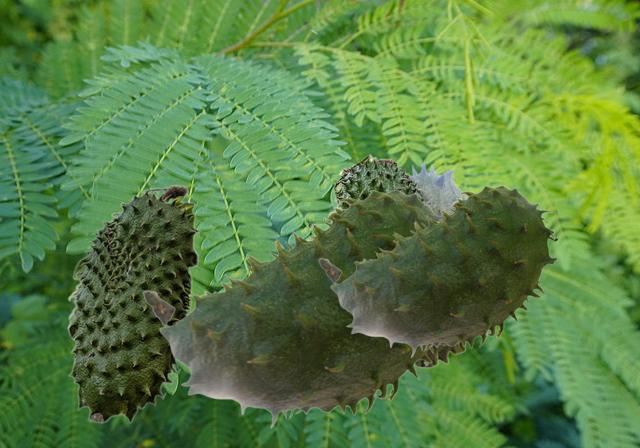guyabano: (142, 189, 446, 428), (318, 185, 557, 357), (66, 184, 199, 423), (399, 158, 466, 368), (330, 153, 429, 221)
